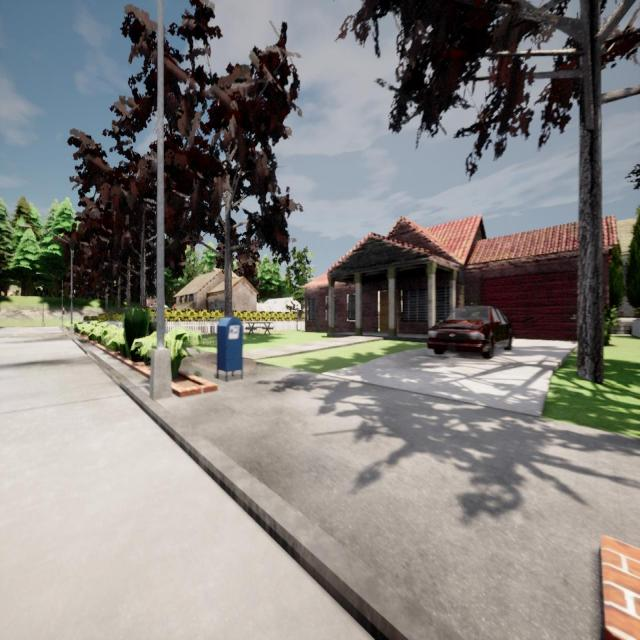Vehicle: (428, 306, 512, 358)
traffic_light: (62, 309, 64, 314)
